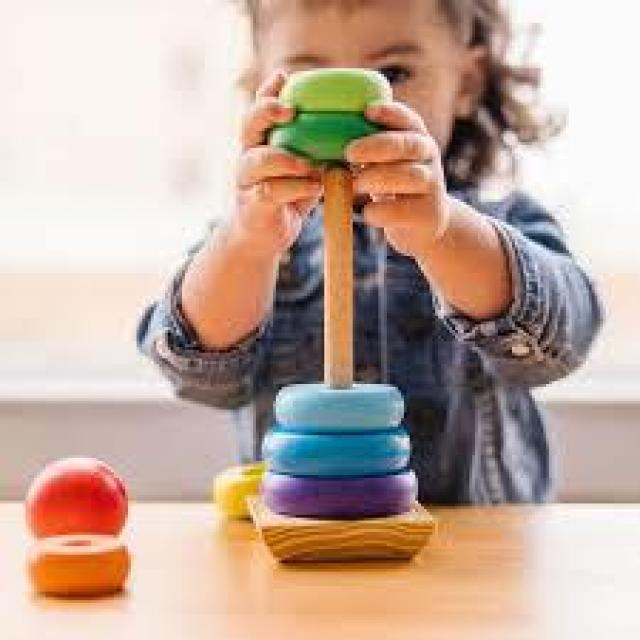child: (125, 3, 609, 609)
